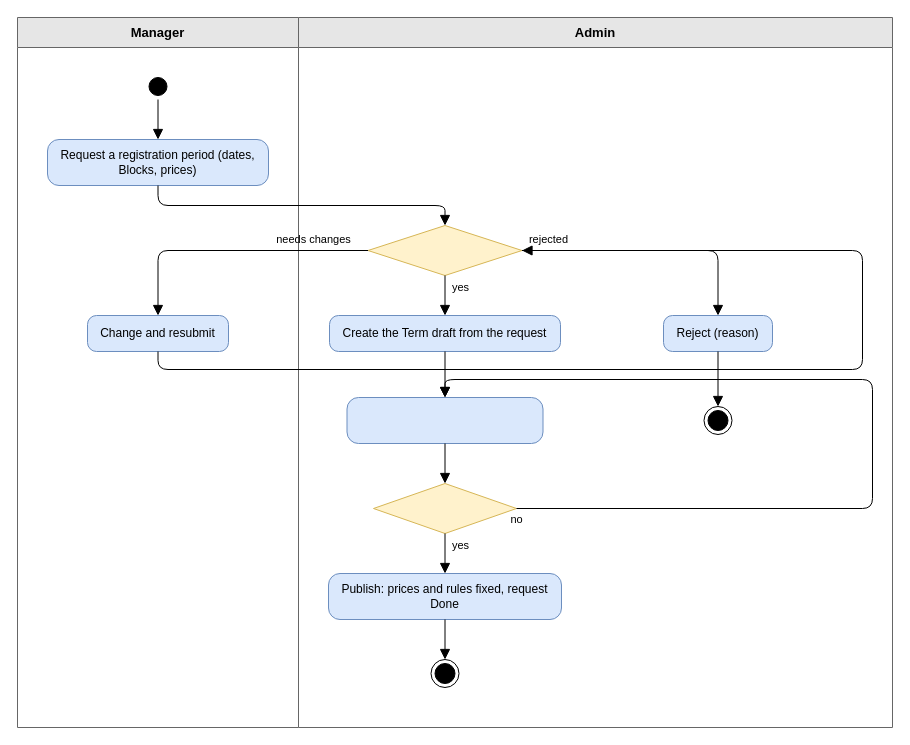
Image size: 910x745. Some labels were removed from this diagram. Here are the shapes that lost their labels. From the top down, the centre of each, then its label:
point (444, 250): Request complete?
point (444, 420): Wizard: timeline, Blocks, prices, Deposit, rules, documents
point (444, 508): Milestones valid?
